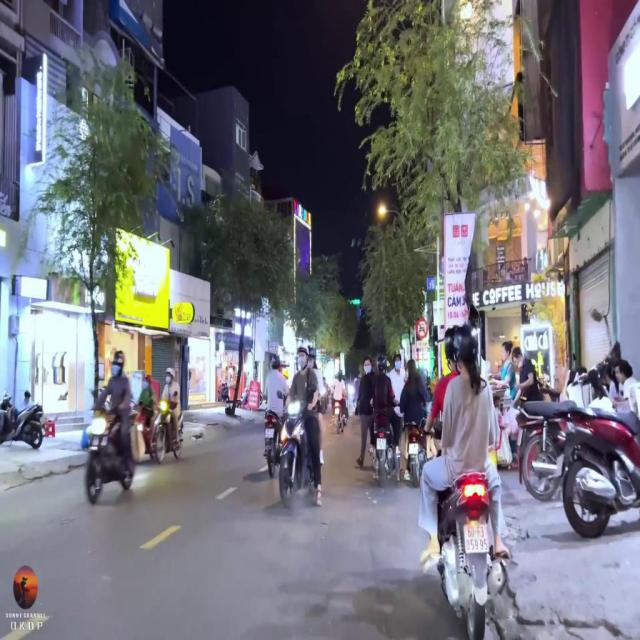cam_o_to: (416, 318, 428, 339)
khac: (416, 341, 428, 348)
